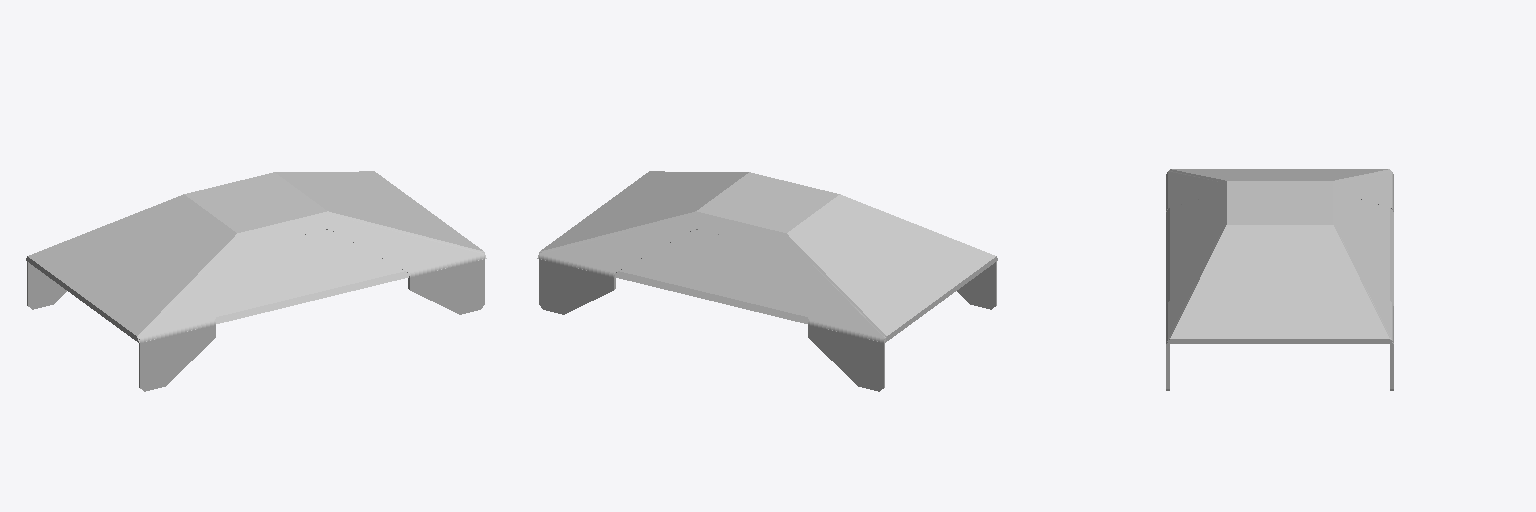
File: lidar_mount_collision.obj
3 views of the same model, side by side, from view 1: azimuth 30°, elevation 25°; view 2: azimuth 150°, elevation 25°; view 3: azimuth 270°, elevation 25° (orthographic).
Parts seen in each view (by area): view 1: lidar_mount_collision, LidarMount_Entire_Platform—Spot,_VERI17.728; view 2: lidar_mount_collision, LidarMount_Entire_Platform—Spot,_VERI17.728; view 3: lidar_mount_collision, LidarMount_Entire_Platform—Spot,_VERI17.728.
Part boxes in pixels (bbox=[...]): lidar_mount_collision: bbox=[26, 171, 486, 342]; LidarMount_Entire_Platform—Spot,_VERI17.728: bbox=[27, 173, 484, 391]; lidar_mount_collision: bbox=[537, 171, 997, 342]; LidarMount_Entire_Platform—Spot,_VERI17.728: bbox=[539, 173, 996, 391]; lidar_mount_collision: bbox=[1166, 169, 1393, 343]; LidarMount_Entire_Platform—Spot,_VERI17.728: bbox=[1166, 170, 1393, 390].
Bounding box in the file's own units: 0.3949 × 0.1155 × 0.2236.